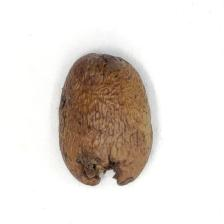NG: (80, 65, 131, 139), (63, 145, 137, 189)
